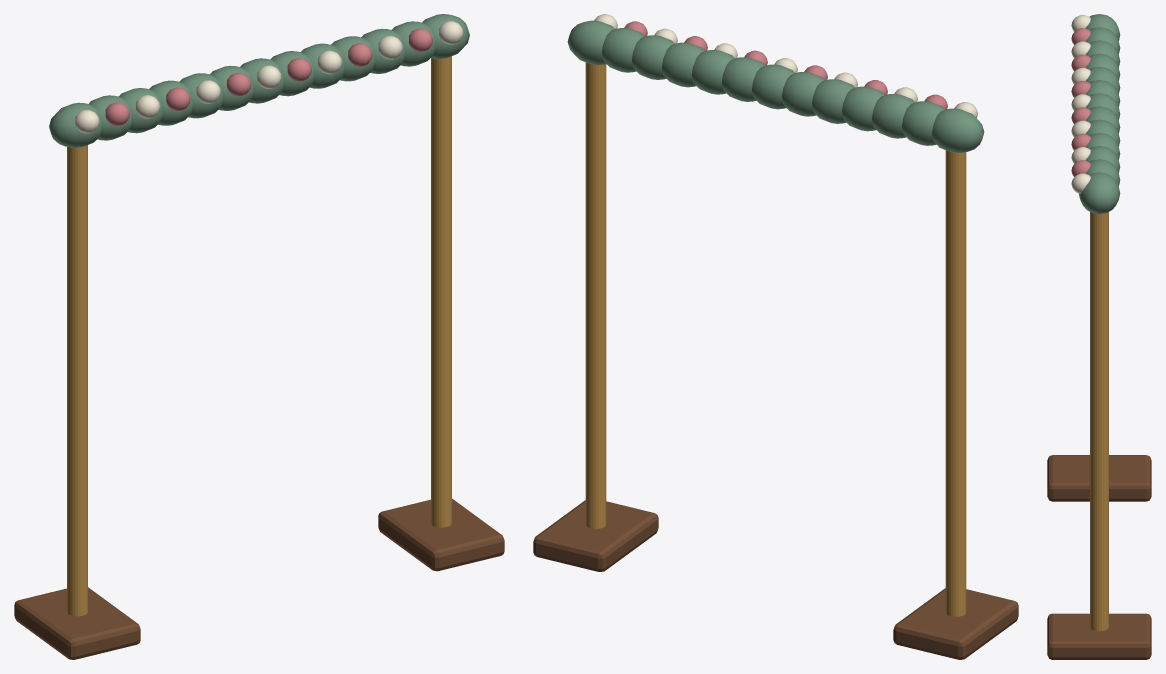
File: flower_arch.glb
3 renders of one model, left to right at view 1: azimuth 30°, elevation 25°; view 2: azimuth 150°, elevation 25°; view 3: azimuth 270°, elevation 25°, orthographic. The views are drawn at different scales.
Visible parts, largest first — view 1: flower_arch; view 2: flower_arch; view 3: flower_arch.
Part boxes in pixels (x1,y1,x2,y2): flower_arch: (14, 14, 504, 659); flower_arch: (533, 14, 1018, 659); flower_arch: (1047, 14, 1151, 659).
Bounding box in the file's own units: 2.16 × 2.5 × 0.5.
